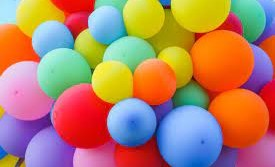Balloon: (156, 106, 223, 167), (191, 29, 253, 92), (51, 85, 110, 146), (210, 90, 269, 147), (1, 62, 53, 122), (106, 97, 156, 148), (36, 50, 90, 95), (132, 58, 176, 106), (170, 1, 230, 32), (27, 130, 72, 167), (123, 1, 165, 40), (92, 61, 132, 101), (87, 7, 123, 42), (32, 21, 72, 51)
